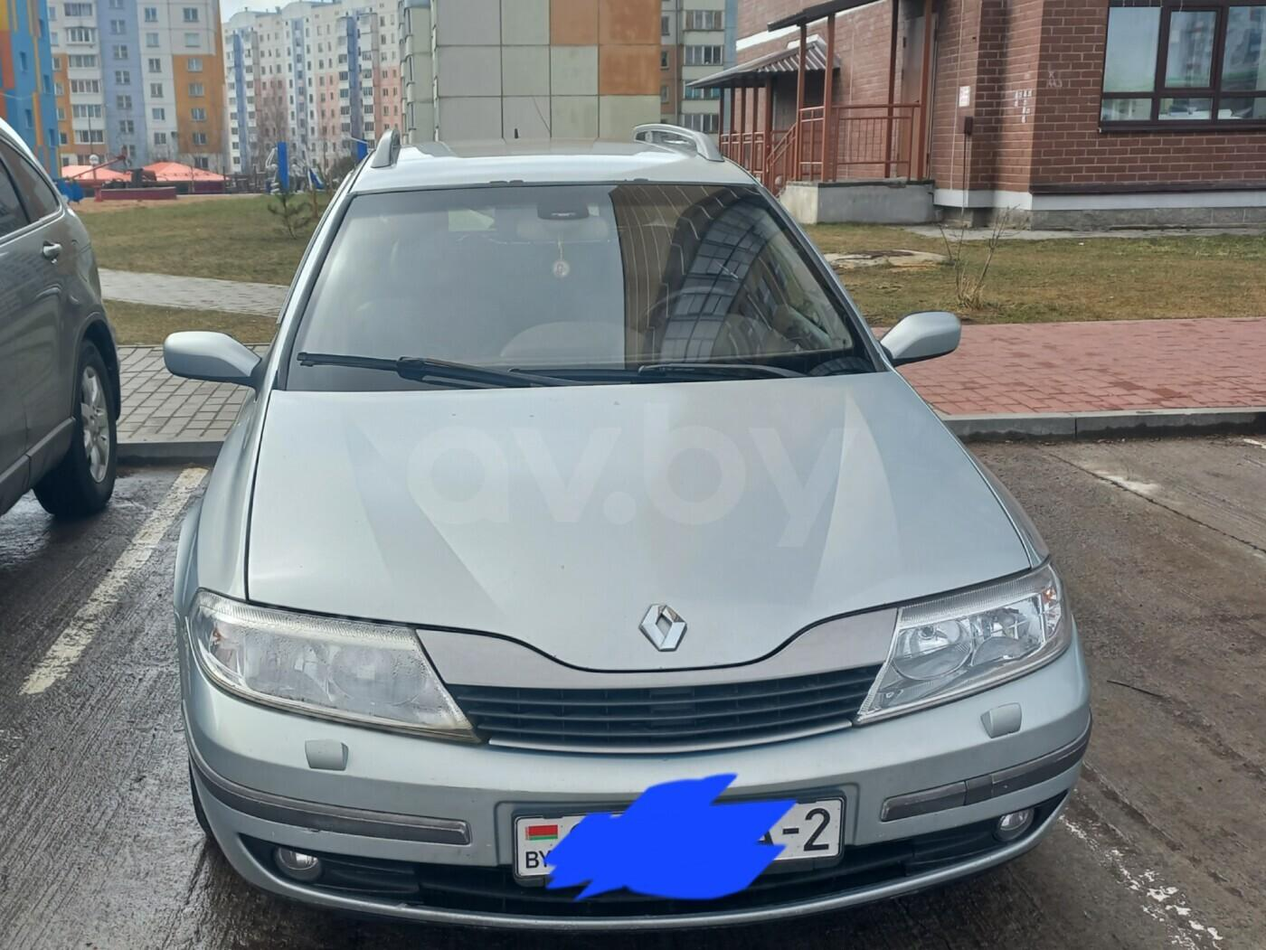Laguna_2001-2005: (165, 125, 1091, 935)
